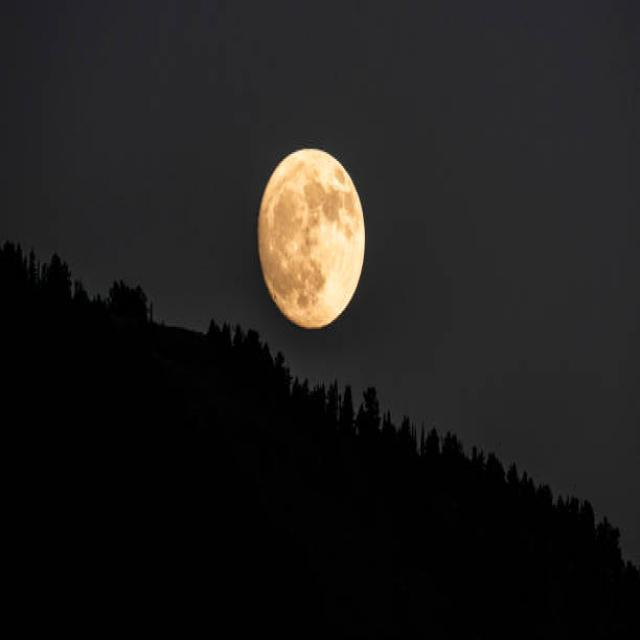moon: (250, 148, 366, 333)
